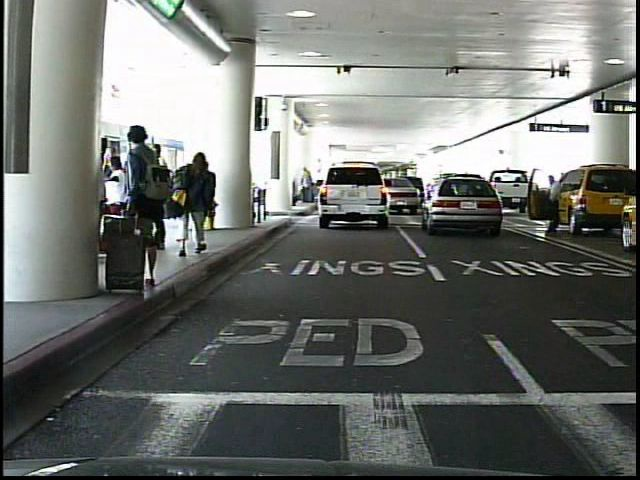person: (111, 121, 163, 289), (178, 146, 218, 261), (144, 142, 174, 245), (176, 158, 202, 233), (541, 175, 563, 235)
